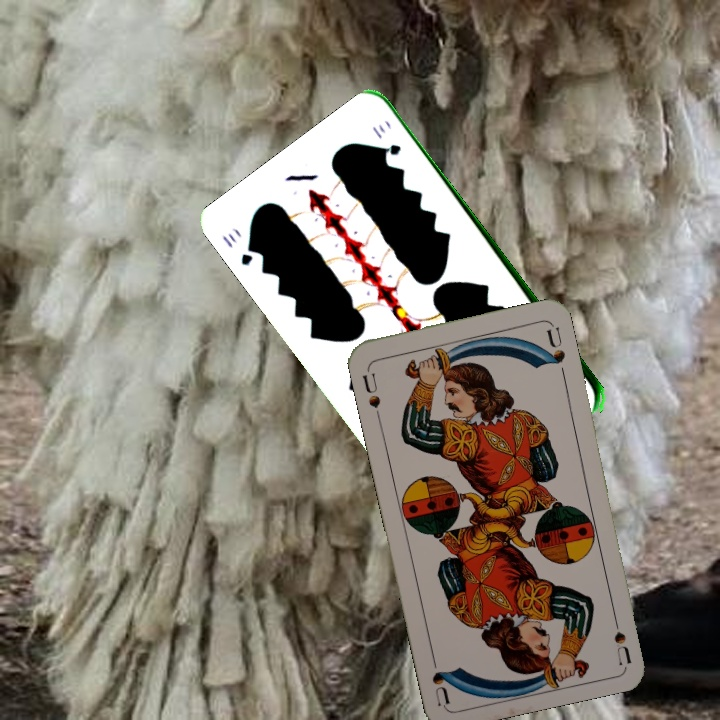G10: (218, 230, 261, 269)
SU: (608, 606, 633, 666), (358, 363, 383, 422)
